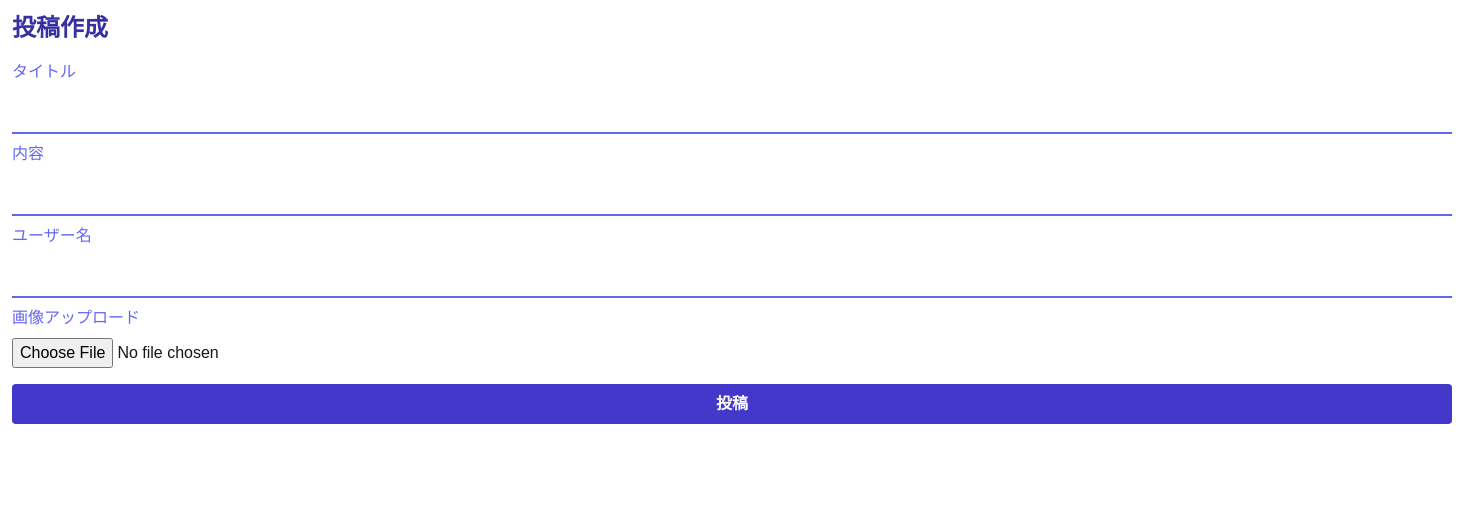
it: 投稿作成ページ › 必須フィールドが空の場合にエラーメッセージが表示されること
Step 1. Click the button "投稿" → click(732, 404), box x1=12 y1=384 x2=1452 y2=424
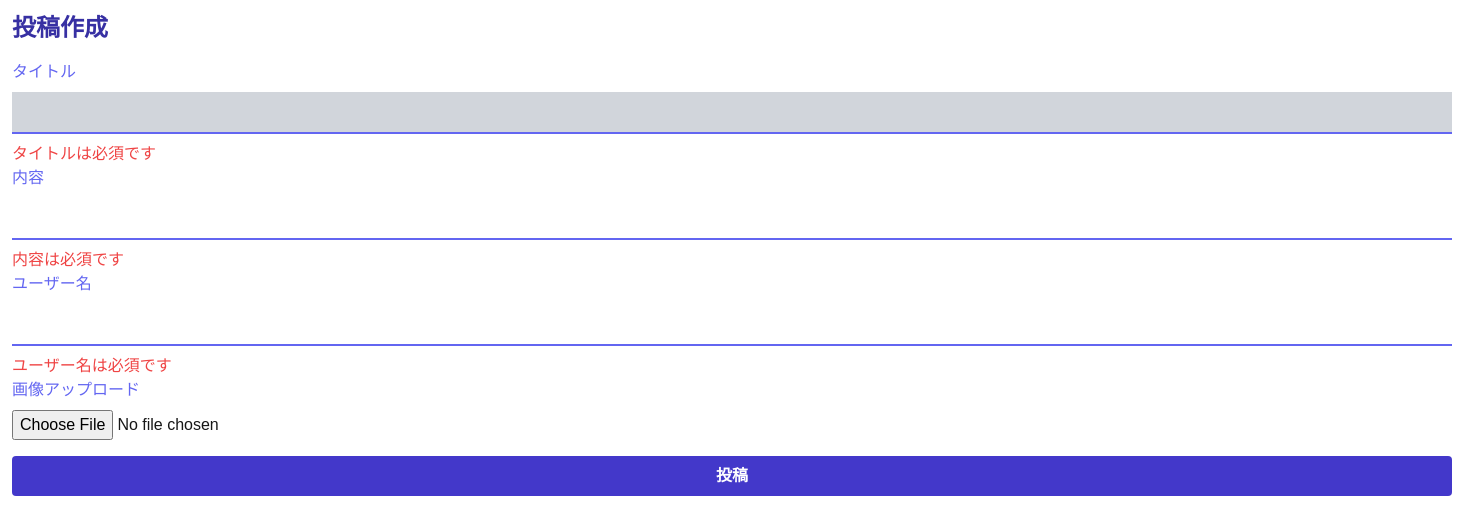
Expected: the text "タイトルは必須です" is shown, x1=12 y1=145 x2=156 y2=162
Expected: the text "内容は必須です" is shown, x1=12 y1=251 x2=124 y2=268
Expected: the text "ユーザー名は必須です" is shown, x1=12 y1=357 x2=172 y2=374
